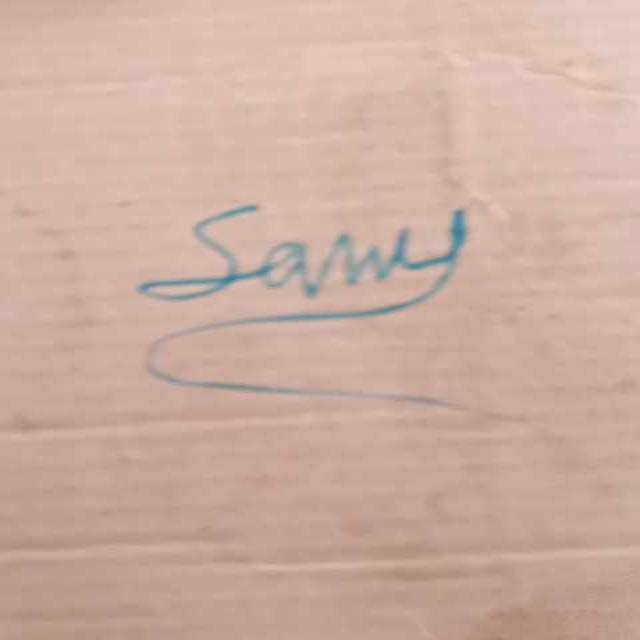signature: (113, 171, 502, 449)
